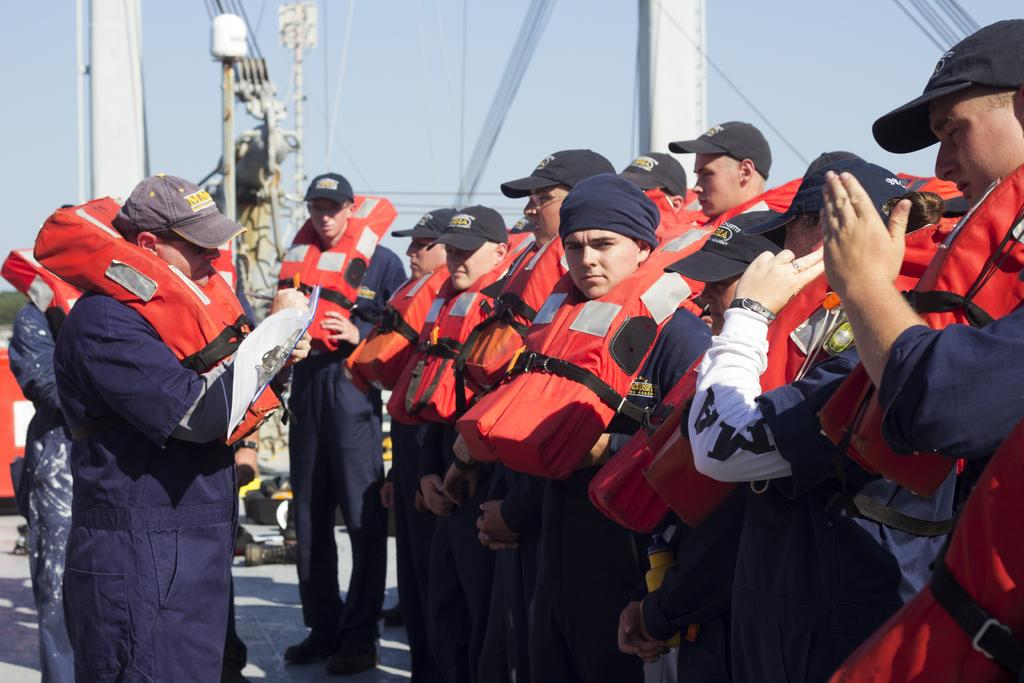Hat: (870, 16, 1022, 154), (744, 142, 869, 246), (113, 170, 248, 250), (664, 210, 784, 282), (667, 121, 771, 181), (499, 150, 615, 192), (428, 206, 504, 253), (619, 150, 690, 200), (390, 207, 456, 238), (301, 172, 353, 203)
